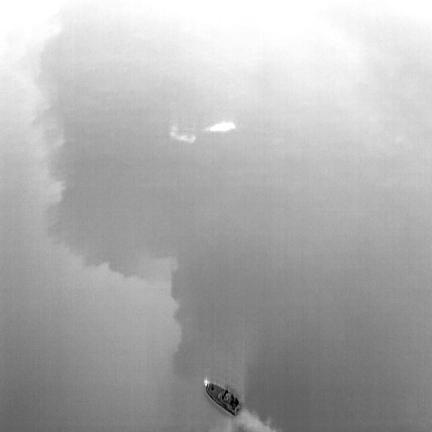flukeprints: (206, 122, 235, 132)
